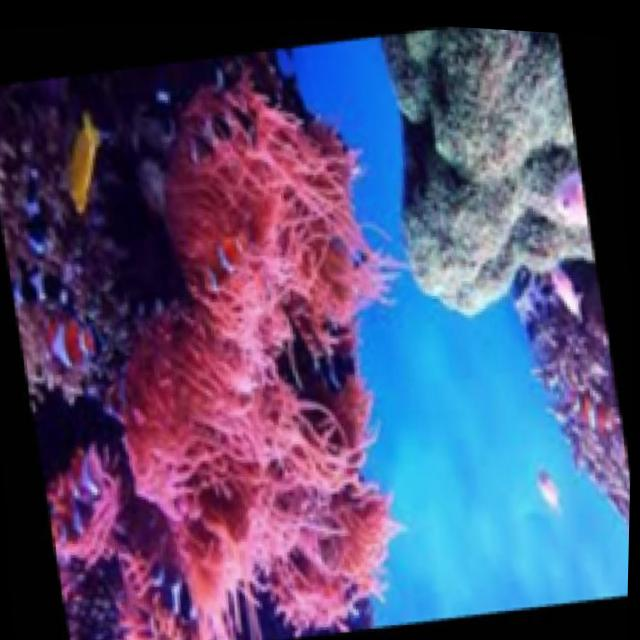Healthy Coral: (62, 285, 412, 640), (100, 58, 409, 355)
